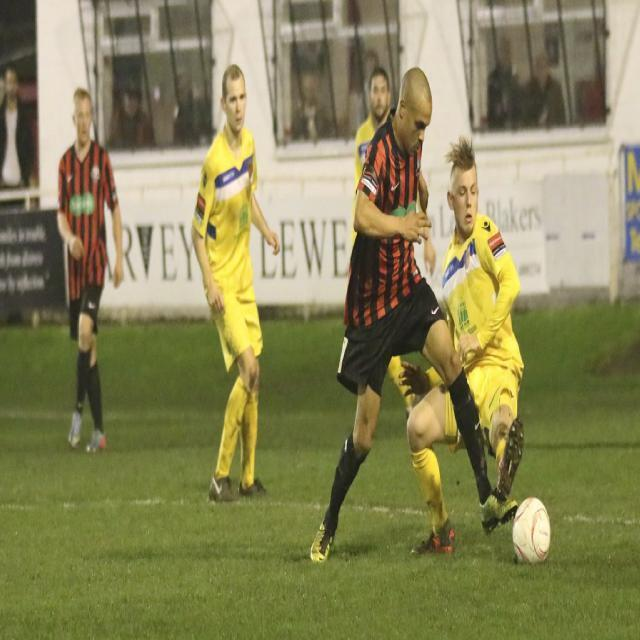football: (499, 497, 593, 572)
